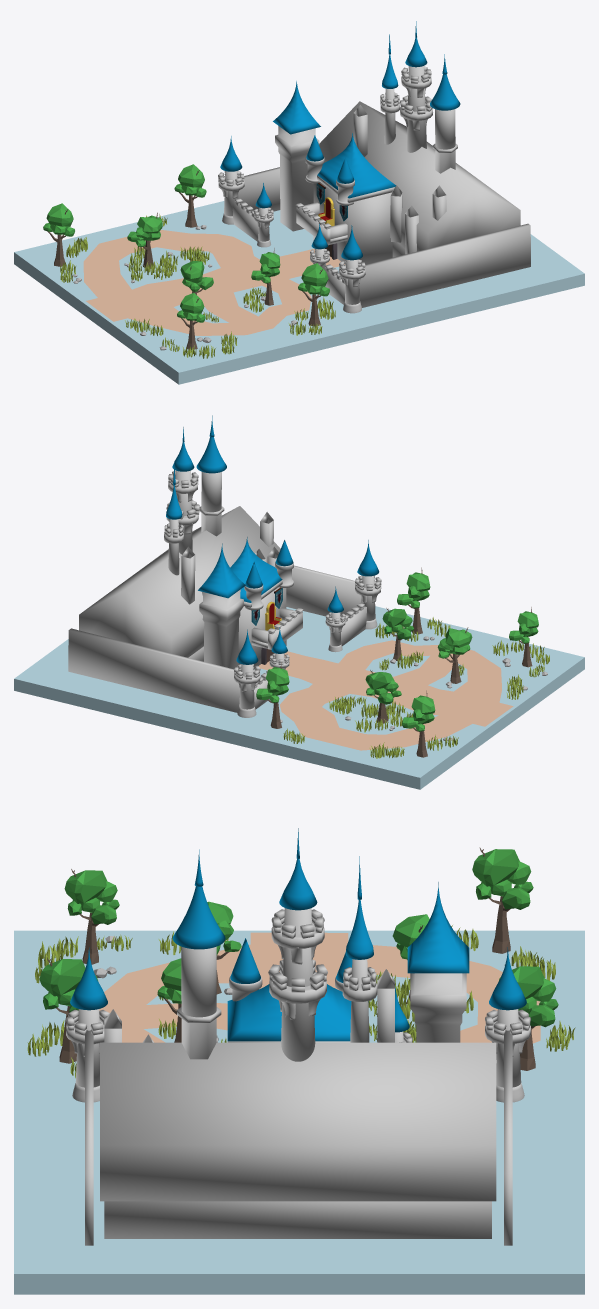
The model's file is king.fbx.
3 renders of one model, top to bottom at view 1: azimuth 30°, elevation 25°; view 2: azimuth 150°, elevation 25°; view 3: azimuth 270°, elevation 25°, orthographic. The views are drawn at different scales.
Parts seen in each view (by area): view 1: Cube.002, ground, Box102, Box100, Box166, Box103, Box168, Box099, ChamferBox013.002, Box104, Tree_temp_climate_003.006, Tree_temp_climate_003.005 (+12 smaller); view 2: Cube.002, ground, Box102, Box099, Box103, Box100, Box168, ChamferBox013.002, Box166, Box104, Tree_temp_climate_003.002, Tree_temp_climate_003.003 (+11 smaller); view 3: Cube.002, Box102, Box101, ground, Box168, Box103, Tree_temp_climate_003.003, Box104, Cylinder024, Tree_temp_climate_003.001, Cylinder031, Tree_temp_climate_003.006 (+19 smaller).
Boxes of the visible parts, bbox=[...] form: Cube.002: bbox=[14, 201, 584, 384]; ground: bbox=[83, 230, 344, 335]; Box102: bbox=[319, 101, 520, 251]; Box100: bbox=[358, 223, 530, 307]; Box166: bbox=[313, 182, 392, 264]; Box103: bbox=[275, 126, 319, 231]; Box168: bbox=[317, 133, 395, 198]; Box099: bbox=[238, 167, 280, 211]; ChamferBox013.002: bbox=[296, 202, 347, 245]; Box104: bbox=[273, 81, 320, 134]; Tree_temp_climate_003.006: bbox=[174, 164, 206, 227]; Tree_temp_climate_003.005: bbox=[298, 263, 329, 326]; Cube.002: bbox=[14, 606, 584, 789]; ground: bbox=[259, 640, 513, 750]; Box102: bbox=[79, 506, 280, 657]; Box099: bbox=[68, 628, 240, 712]; Box103: bbox=[199, 589, 243, 669]; Box100: bbox=[286, 565, 361, 616]; Box168: bbox=[230, 537, 282, 602]; ChamferBox013.002: bbox=[251, 607, 303, 649]; Box166: bbox=[238, 587, 286, 669]; Box104: bbox=[198, 543, 245, 598]; Tree_temp_climate_003.002: bbox=[437, 627, 472, 683]; Tree_temp_climate_003.003: bbox=[402, 690, 435, 757]; Cube.002: bbox=[14, 930, 584, 1294]; Box102: bbox=[100, 1042, 496, 1201]; Box101: bbox=[104, 1201, 491, 1238]; ground: bbox=[99, 932, 540, 1043]; Box168: bbox=[227, 984, 368, 1041]; Box103: bbox=[410, 973, 466, 1042]; Tree_temp_climate_003.003: bbox=[472, 847, 533, 953]; Box104: bbox=[407, 882, 469, 973]; Cylinder024: bbox=[281, 908, 315, 1061]; Tree_temp_climate_003.001: bbox=[64, 869, 119, 964]; Cylinder031: bbox=[181, 946, 216, 1017]; Tree_temp_climate_003.006: bbox=[498, 965, 558, 1070].
Bounding box in the file's own units: 77.48 × 42.4 × 54.45.
Materials: 18 (3 with a texture image).
